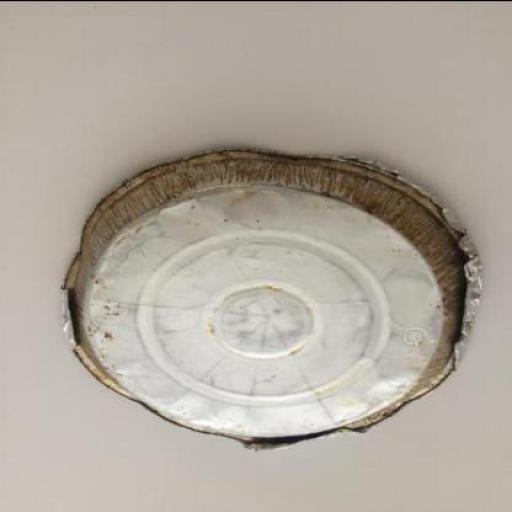metal: (63, 146, 486, 451)
